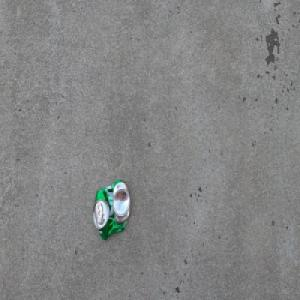SodaCan: (92, 179, 130, 241)
